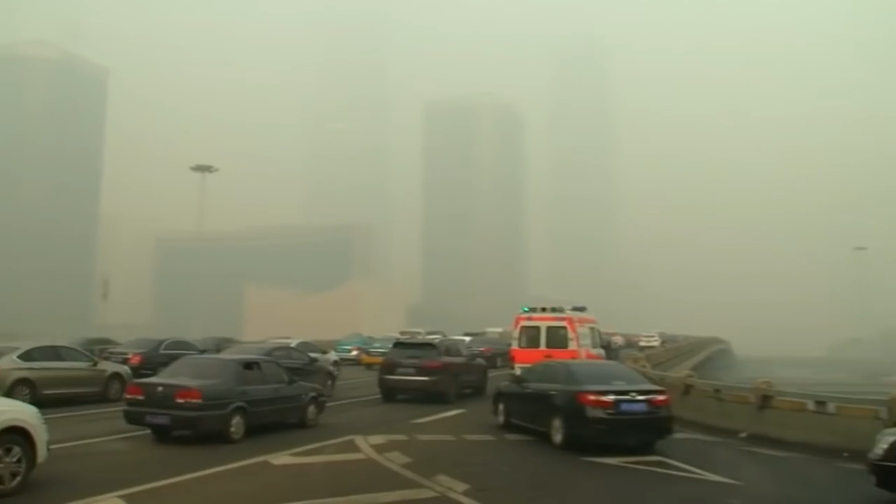car: (121, 351, 325, 441), (489, 358, 675, 455), (1, 342, 135, 408), (508, 303, 614, 384), (196, 343, 339, 402), (375, 337, 489, 404), (99, 336, 213, 380), (244, 336, 340, 385), (457, 336, 516, 369), (357, 336, 410, 369), (332, 335, 381, 364), (599, 329, 626, 349), (637, 332, 662, 351)
